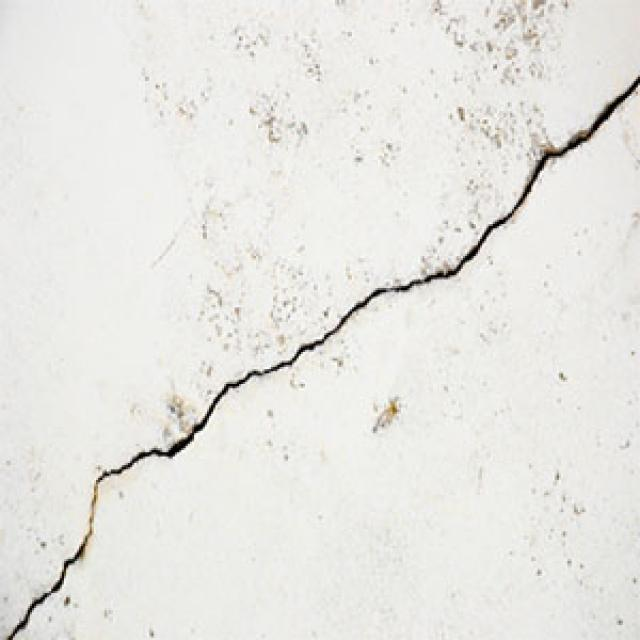Crack: (4, 77, 636, 638)
